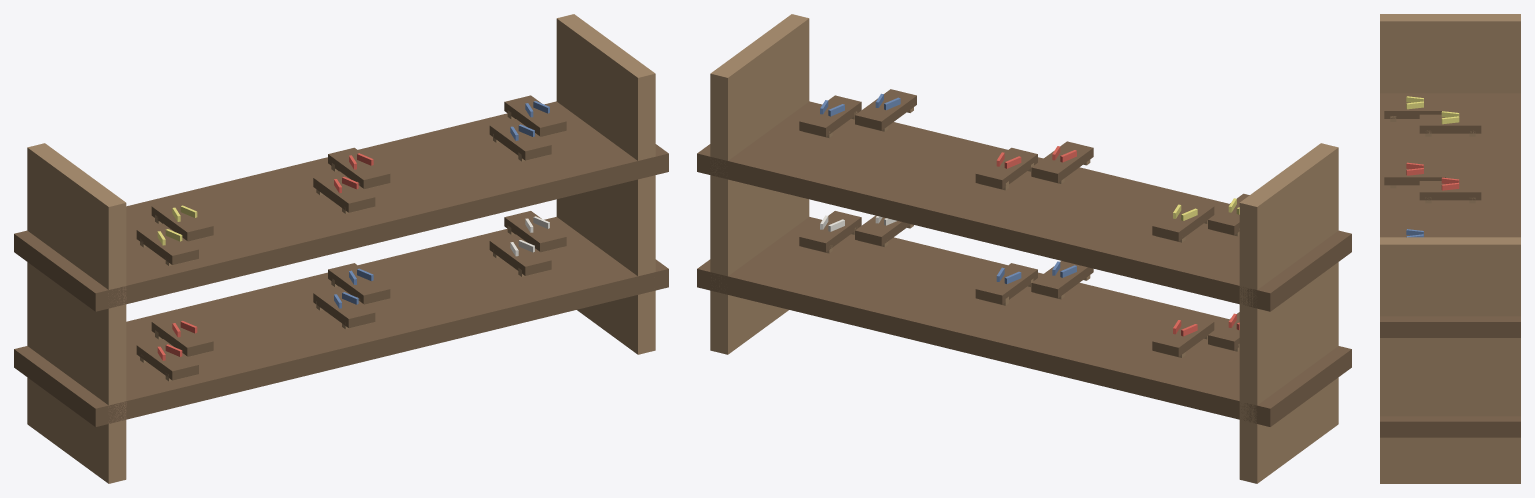
The model's file is geta_rack.glb.
3 renders of one model, left to right at view 1: azimuth 30°, elevation 25°; view 2: azimuth 150°, elevation 25°; view 3: azimuth 270°, elevation 25°, orthographic. The views are drawn at different scales.
Visible parts, largest first — view 1: geta_rack; view 2: geta_rack; view 3: geta_rack.
Part boxes in pixels (<box>): geta_rack: <box>14,14,668,483</box>; geta_rack: <box>697,14,1351,483</box>; geta_rack: <box>1380,14,1520,483</box>.
Size of the model in its own units: 1.3 by 0.6 by 0.32.
